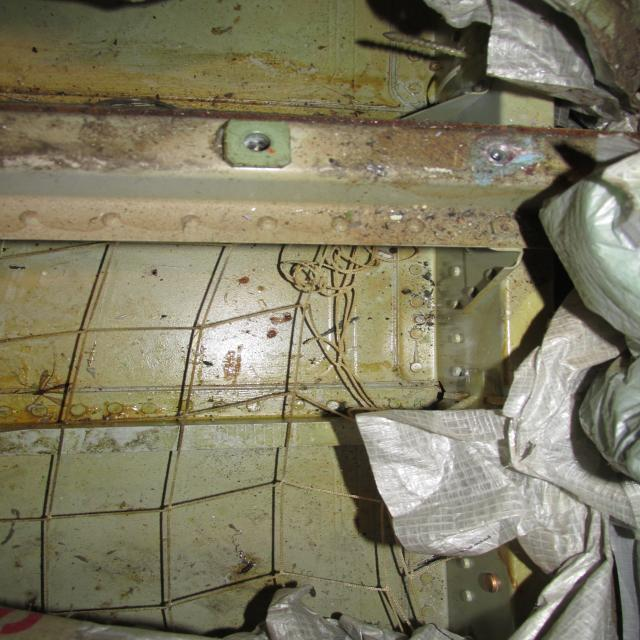Missing Fastener: (467, 135, 541, 173), (228, 125, 292, 164)
